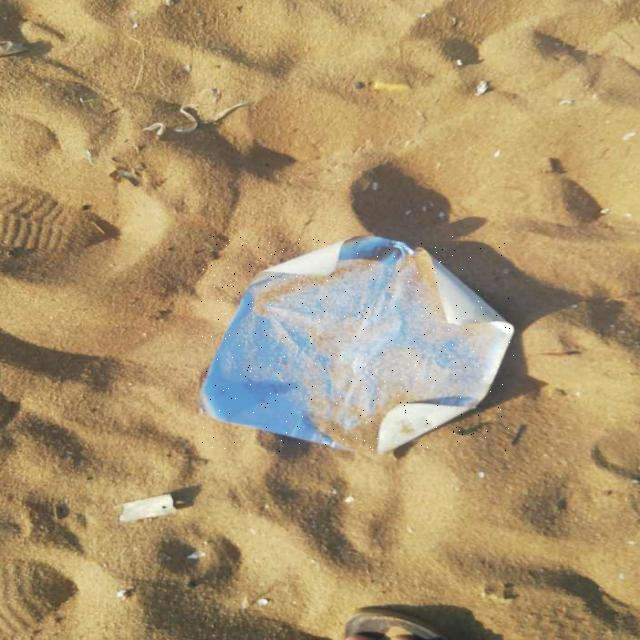paper: (202, 237, 514, 453)
